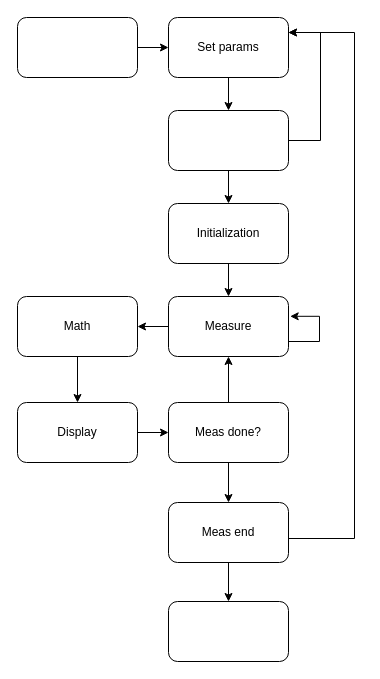
Image size: 380x679. Some labels were removed from this diagram. The box of each missing label's shape, as (x1, y1, x2, y2) in pixels:
Boot: (16, 16, 138, 78)
Save meas: (168, 600, 288, 662)
Save params: (168, 110, 288, 170)
